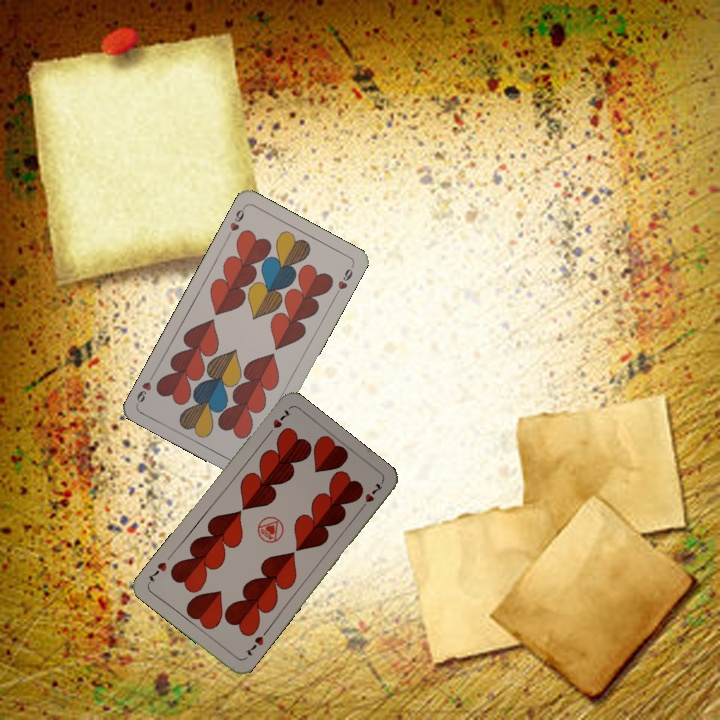H7: (262, 405, 294, 439), (241, 632, 266, 659)
H9: (223, 203, 248, 240)
